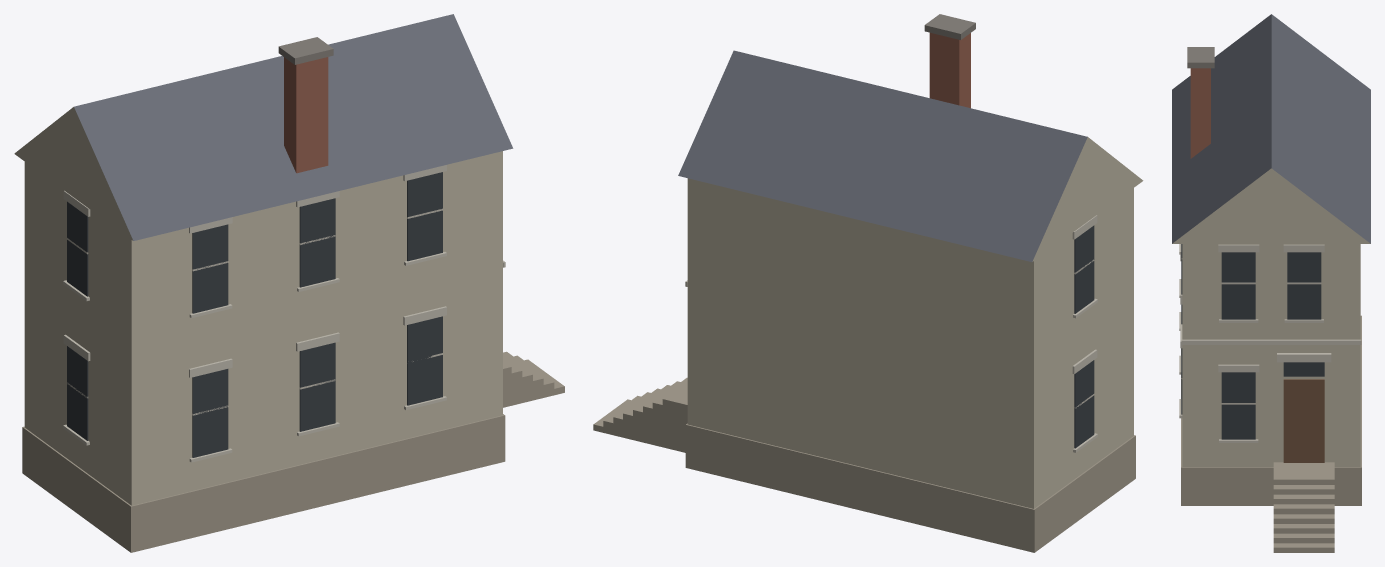
Rendered from house_1611_prairie__draft_1904.glb.
The picture shows the model from 3 angles, left to right: view 1: azimuth 30°, elevation 25°; view 2: azimuth 150°, elevation 25°; view 3: azimuth 270°, elevation 25°; orthographic projection. The views are drawn at different scales.
Parts seen in each view (by area): view 1: house_1611_prairie__draft_1904; view 2: house_1611_prairie__draft_1904; view 3: house_1611_prairie__draft_1904.
Part boxes in pixels (left/top/right/bottom): house_1611_prairie__draft_1904: left=14, top=14, right=564, bottom=552; house_1611_prairie__draft_1904: left=593, top=14, right=1143, bottom=552; house_1611_prairie__draft_1904: left=1172, top=14, right=1370, bottom=552.
Bounding box in the file's own units: 13.92 × 12.18 × 5.85.
